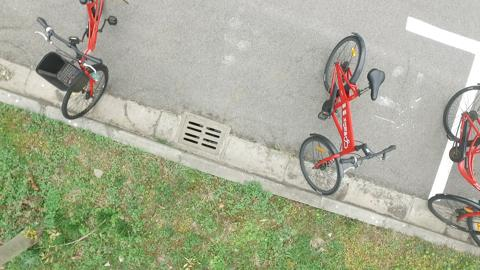bike: (288, 52, 390, 201), (39, 13, 133, 126)
